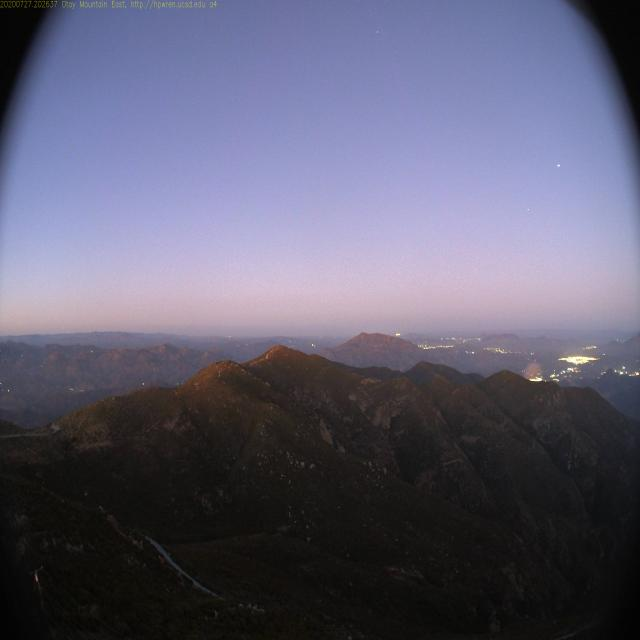smoke: (523, 357, 545, 386)
